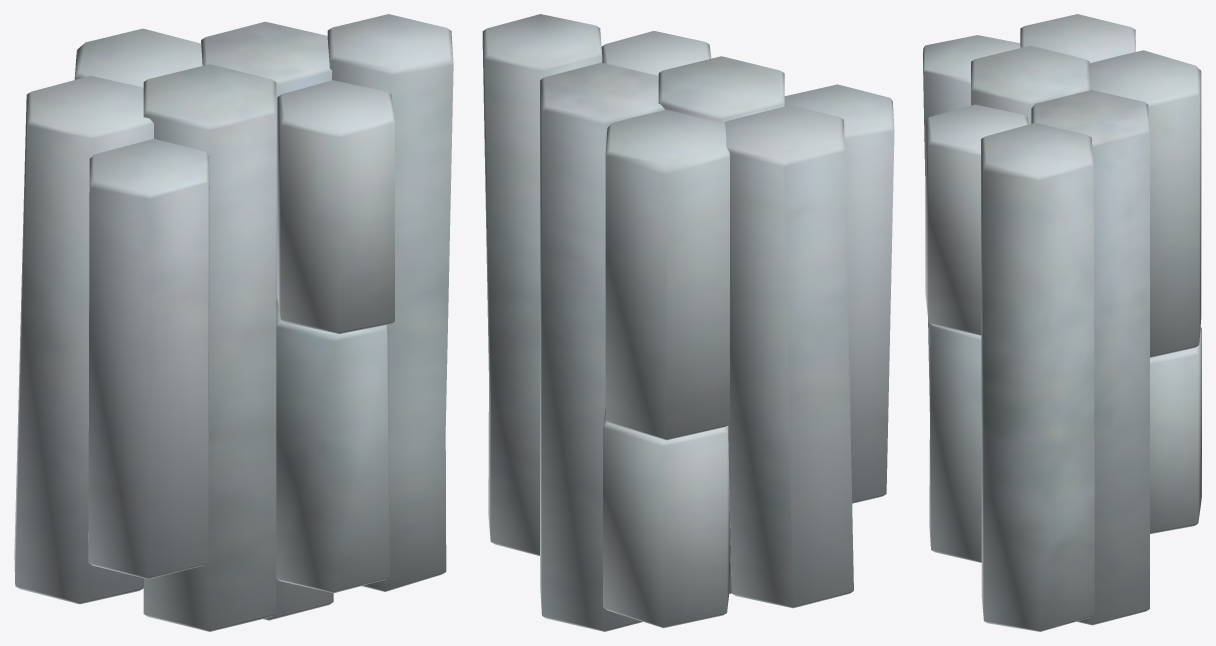
The model's file is P_RockHexic_Rocks05.obj.
3 views of the same model, side by side, from view 1: azimuth 30°, elevation 25°; view 2: azimuth 150°, elevation 25°; view 3: azimuth 270°, elevation 25° (orthographic). The views are drawn at different scales.
Size of the model in its own units: 12.99 by 16.49 by 8.47.
